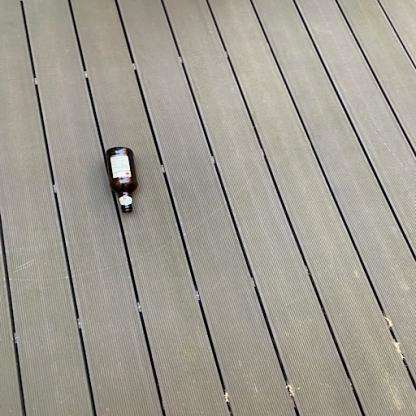trash: (98, 143, 140, 224)
